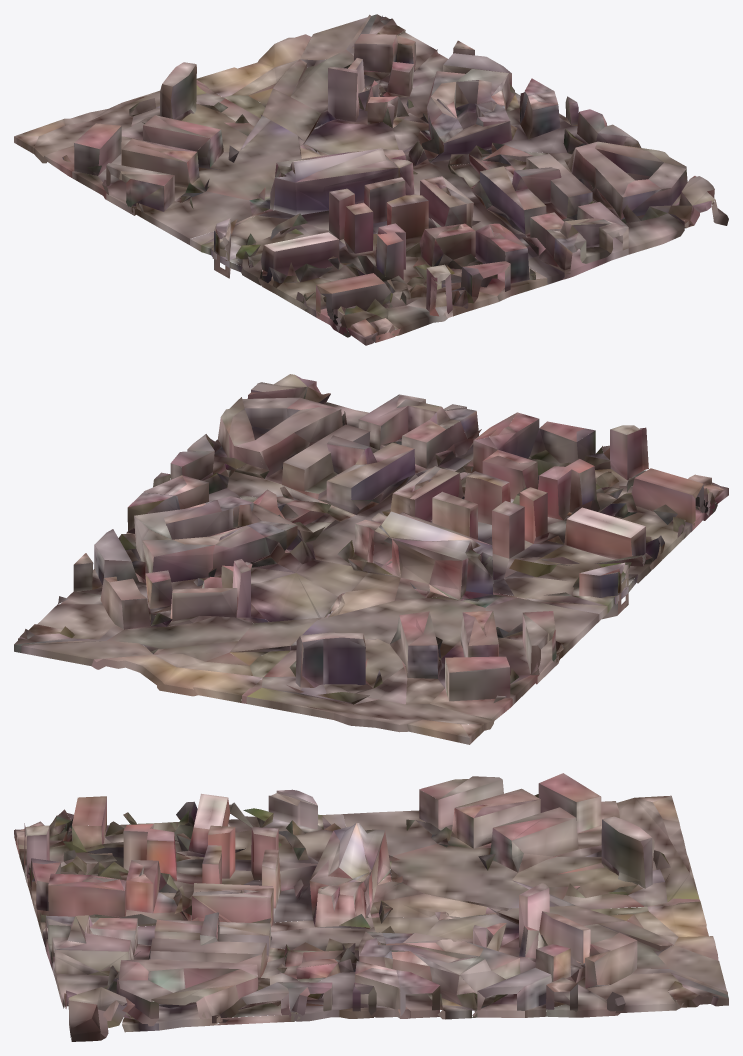
The picture shows the model from 3 angles, top to bottom: view 1: azimuth 30°, elevation 25°; view 2: azimuth 150°, elevation 25°; view 3: azimuth 270°, elevation 25°; orthographic projection. The views are drawn at different scales.
Parts seen in each view (by area): view 1: Mesh_0; view 2: Mesh_0; view 3: Mesh_0.
Boxes of the visible parts, x1=… form: Mesh_0: x1=14, y1=14, x2=728, y2=345; Mesh_0: x1=14, y1=374, x2=728, y2=744; Mesh_0: x1=14, y1=773, x2=728, y2=1041.
Size of the model in its own units: 532 by 76.83 by 659.
2 materials, 2 textured.
